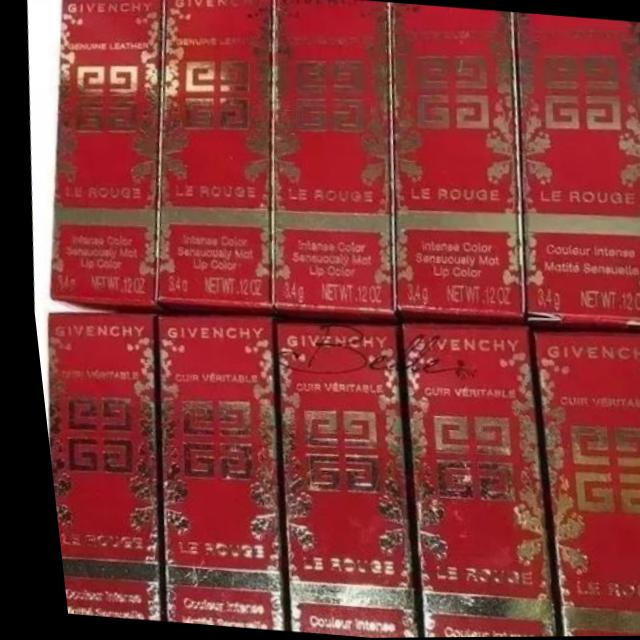box: (393, 326, 545, 638), (386, 5, 520, 328), (268, 318, 403, 638), (263, 0, 394, 324), (512, 14, 640, 332), (148, 314, 272, 630), (150, 0, 274, 314), (520, 328, 640, 637), (43, 0, 161, 313), (37, 311, 149, 620)
